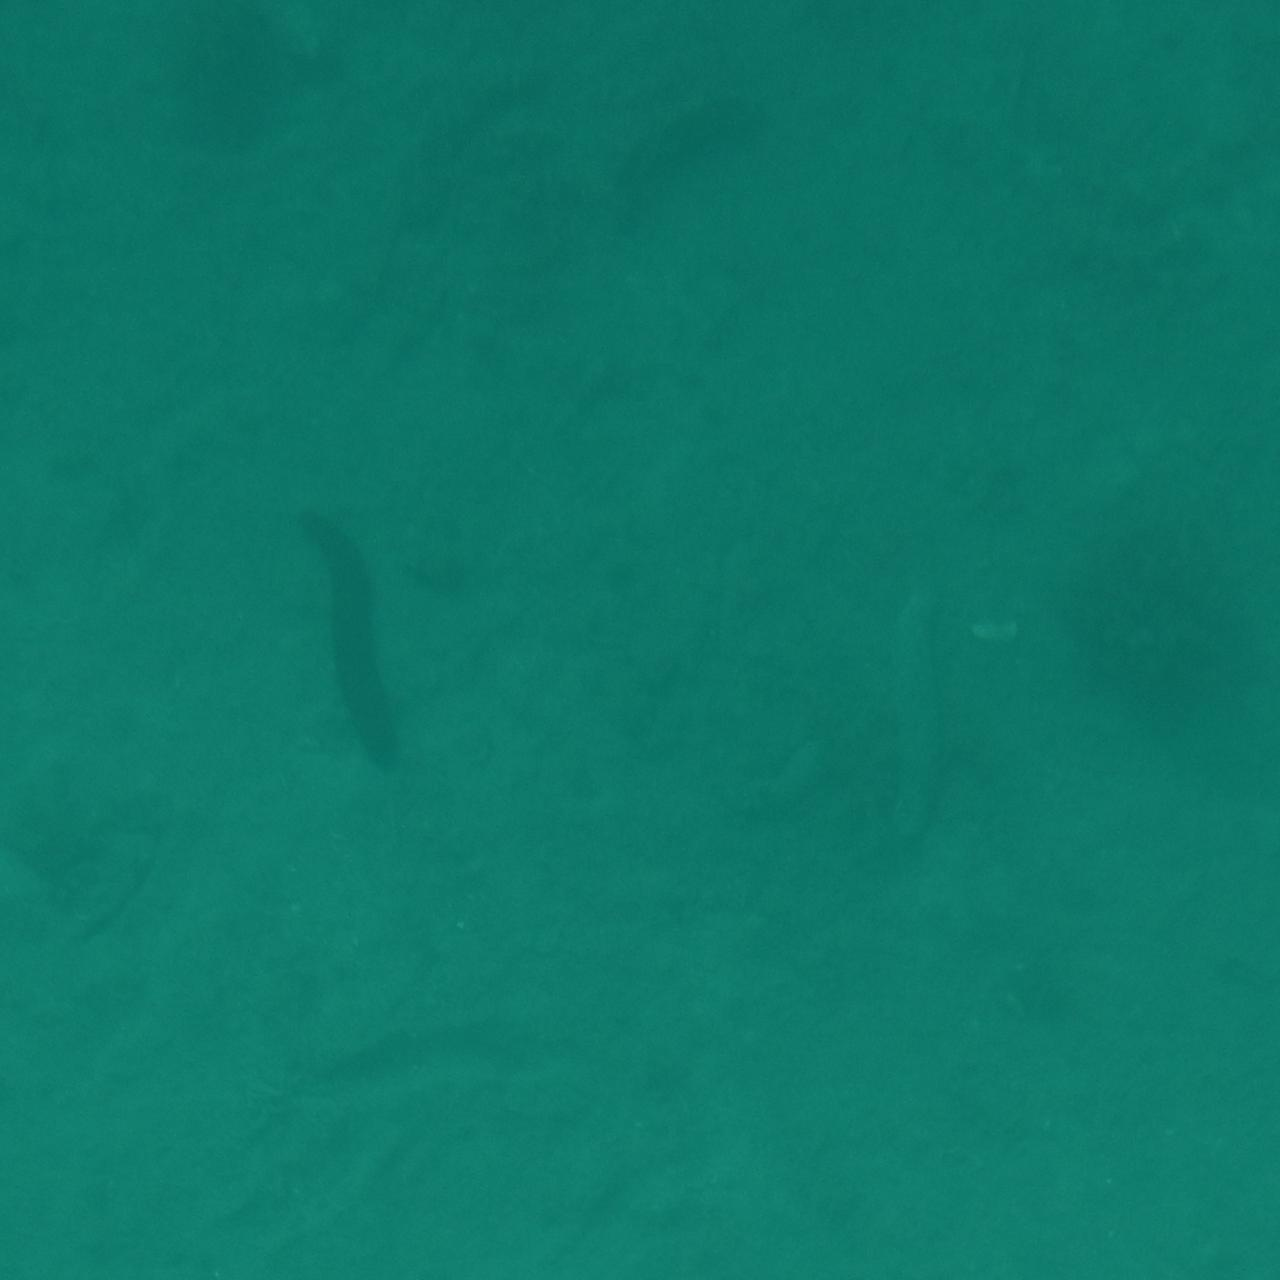Holothuria tubulosa: (538, 41, 783, 267), (284, 503, 430, 817), (874, 524, 974, 870)
